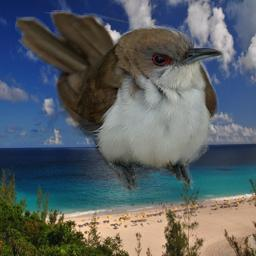Cuckoo: (15, 10, 226, 198)
